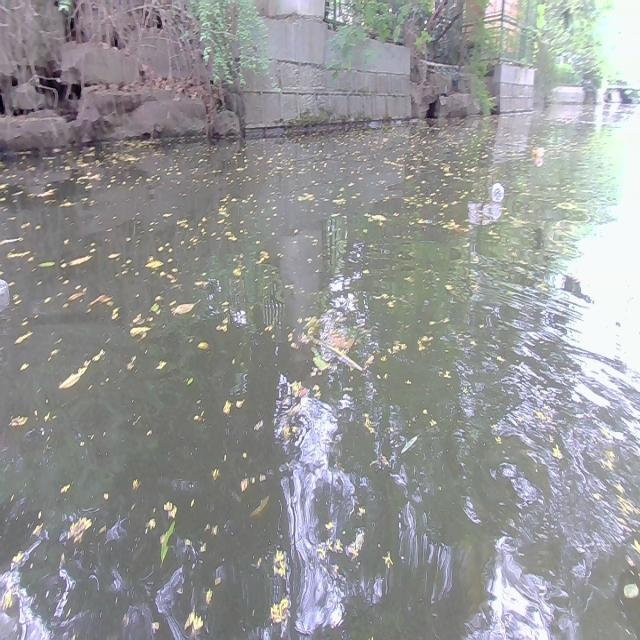bottle: (492, 181, 504, 200), (531, 146, 547, 158)
